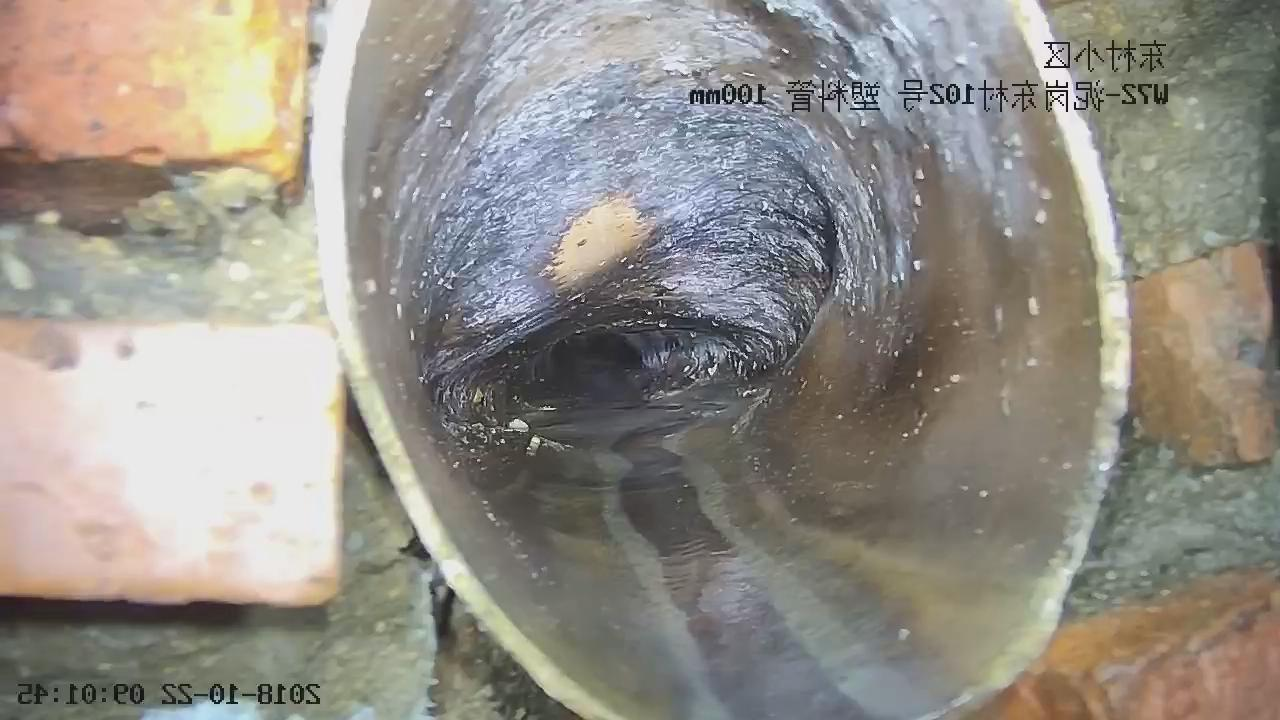BX: (422, 99, 841, 451)
